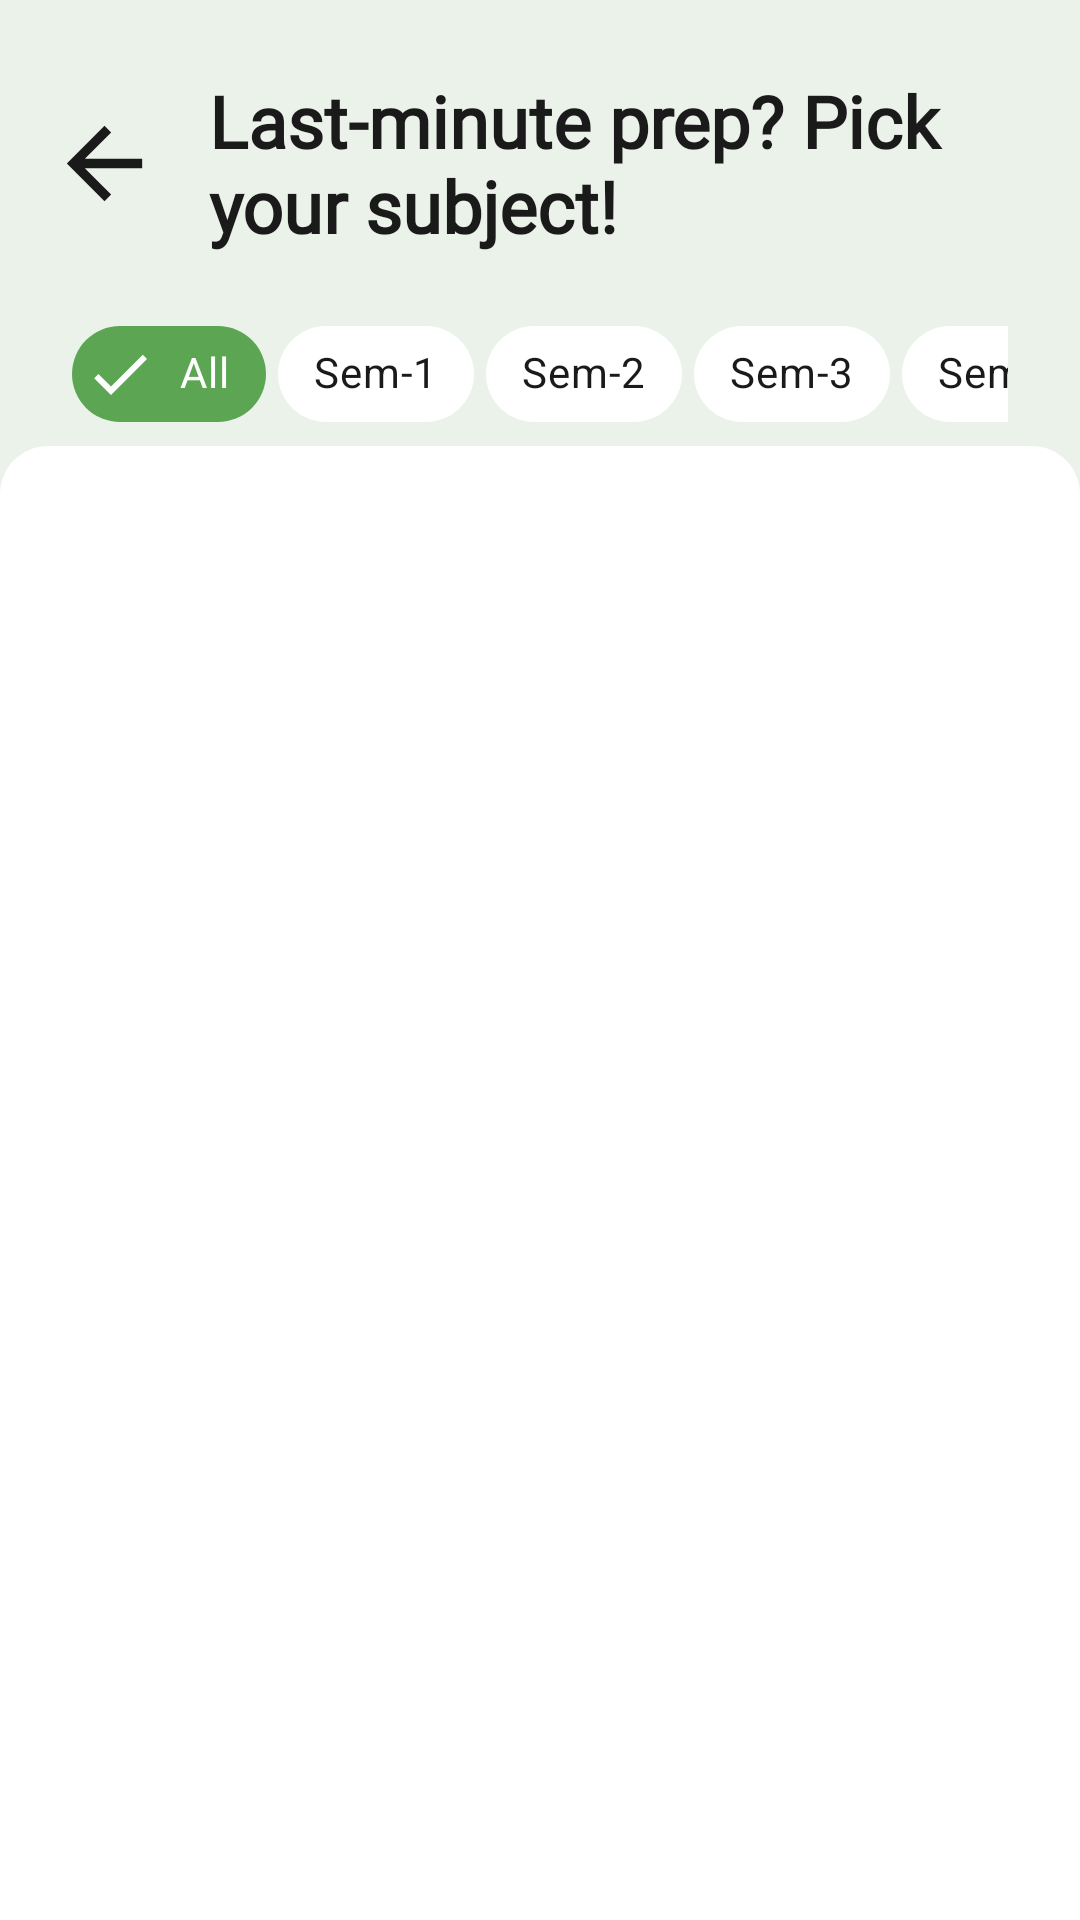

Where icons sit on this 1080px×1920px app screen, as (x1, y1, x2, y2):
back: (67, 126, 143, 201)
